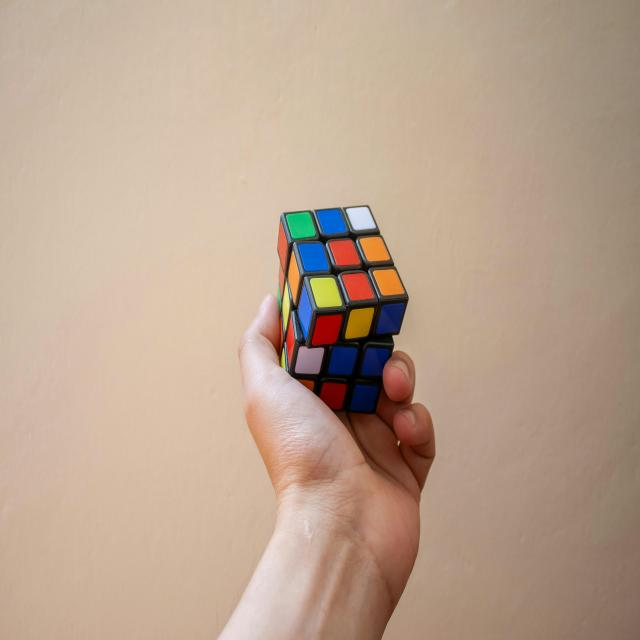Cubo-No-resuelto: (275, 205, 408, 414)
